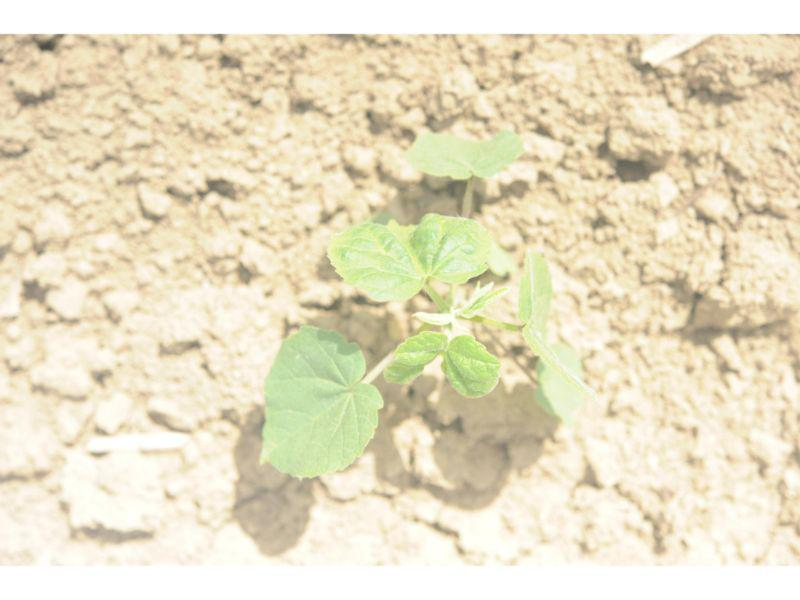velvet: (262, 126, 584, 479)
